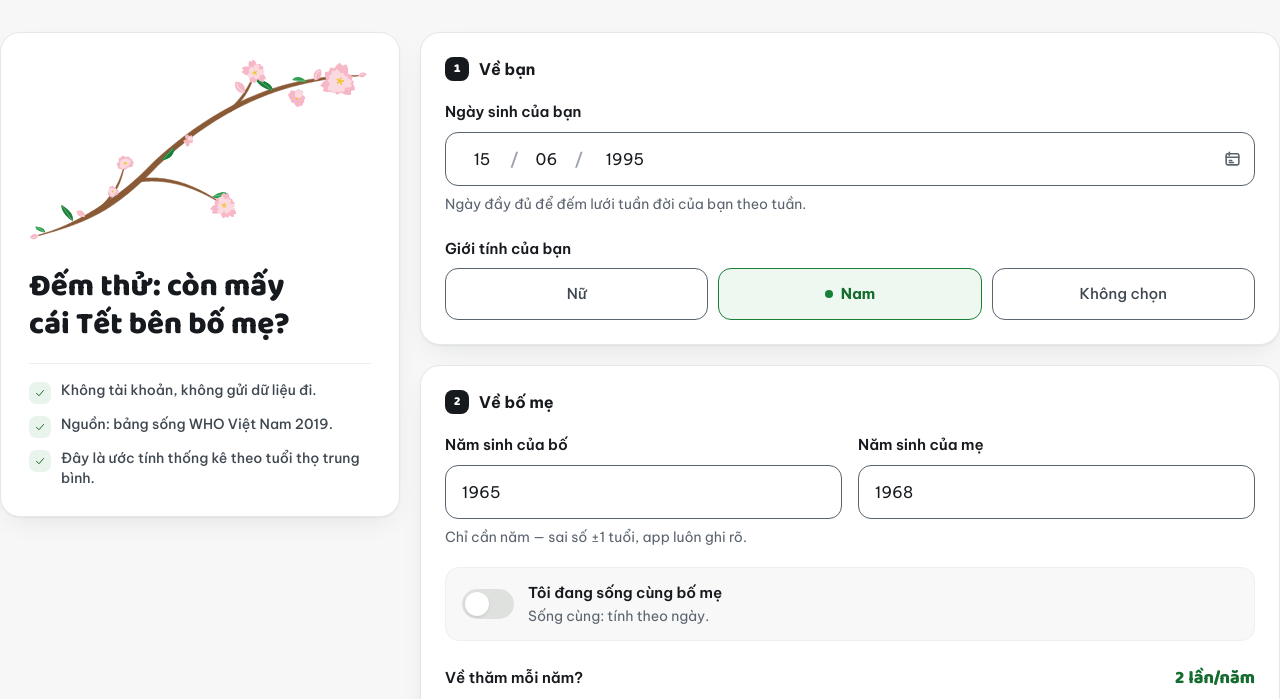
Test: Gói kèm Panel #01 — TC-3 + aria ô lỗi › Ô lỗi mang aria-invalid + aria-describedby trỏ đúng khối thông báo
The image size is (1280, 699).
Replace the text in the field with id "birth-day" with "01" at x=482, y=158, box [458,136,506,180]
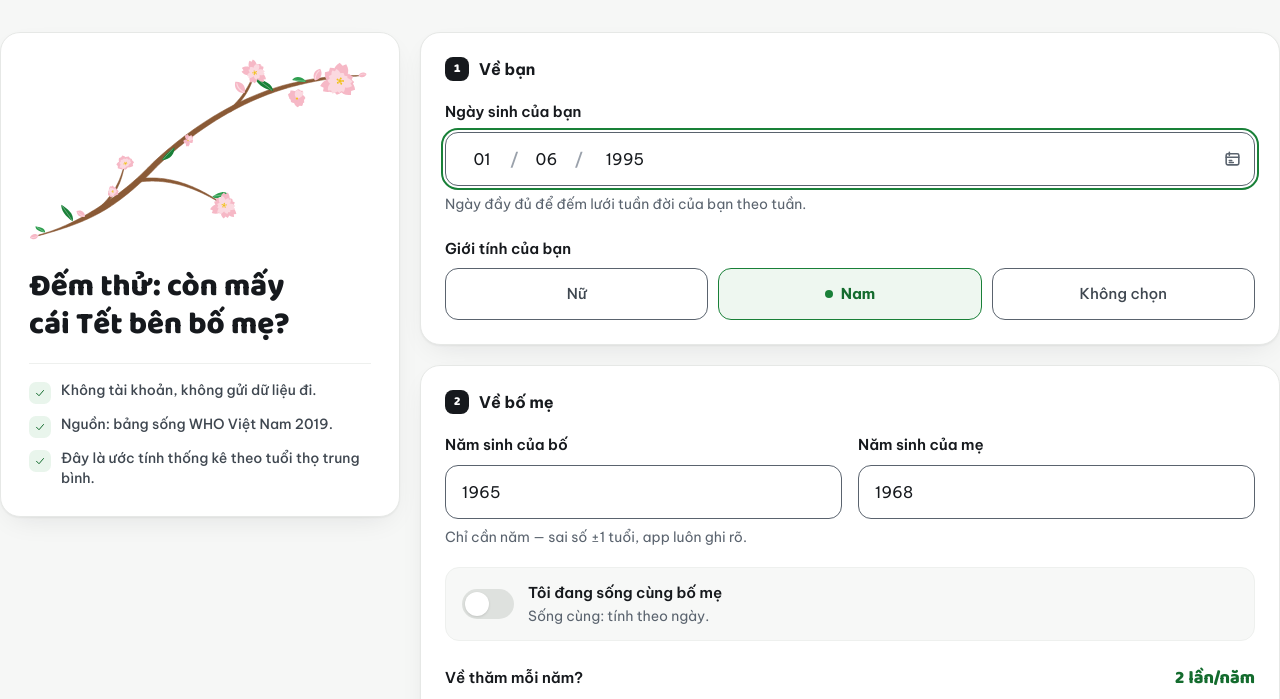
Replace the text in the field with id "birth-month" with "01" at x=546, y=158, box [522,136,570,180]
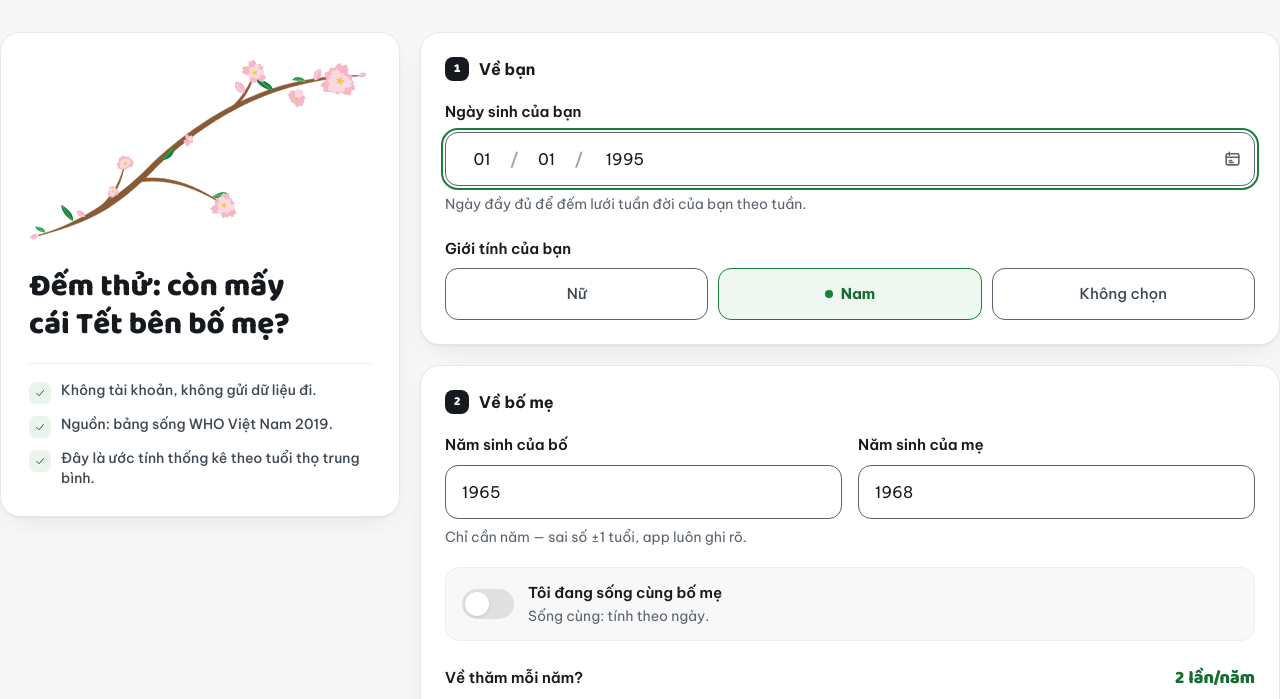
Replace the text in the field with id "birth-year" with "2999" at x=625, y=158, box [587,136,663,180]
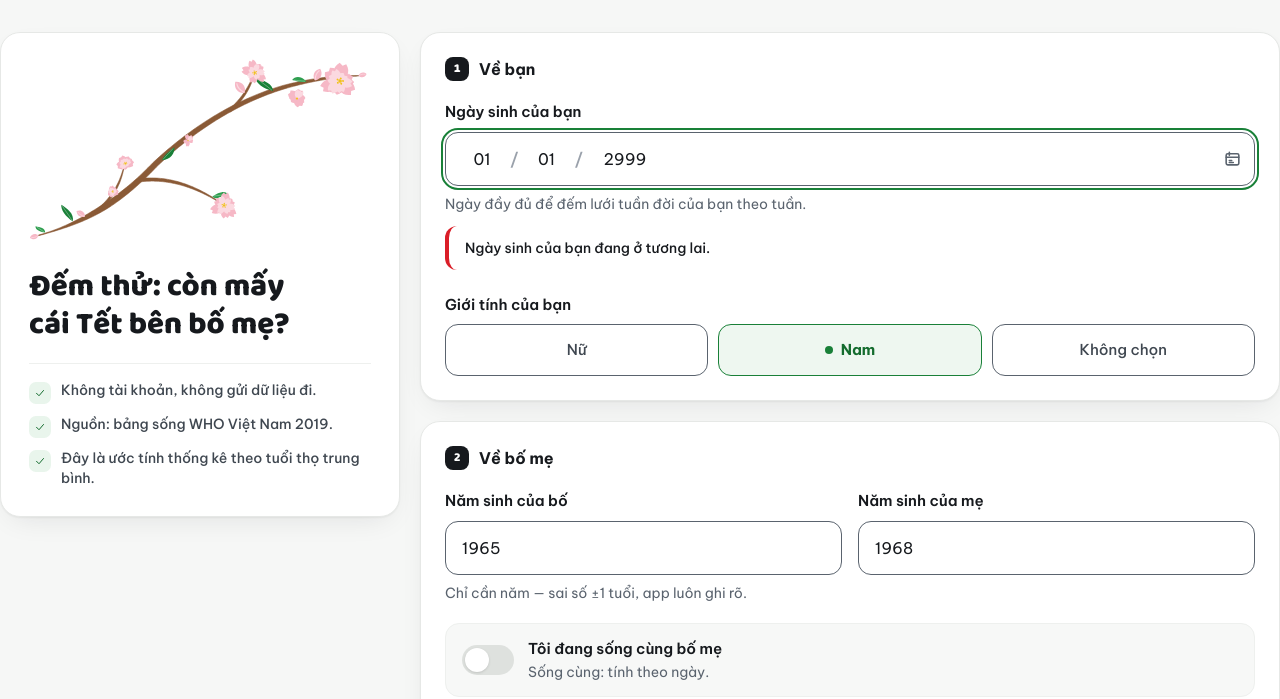
Now the message "Ngày sinh của bạn đang ở tương lai." is shown, box [445,226,1255,270]
